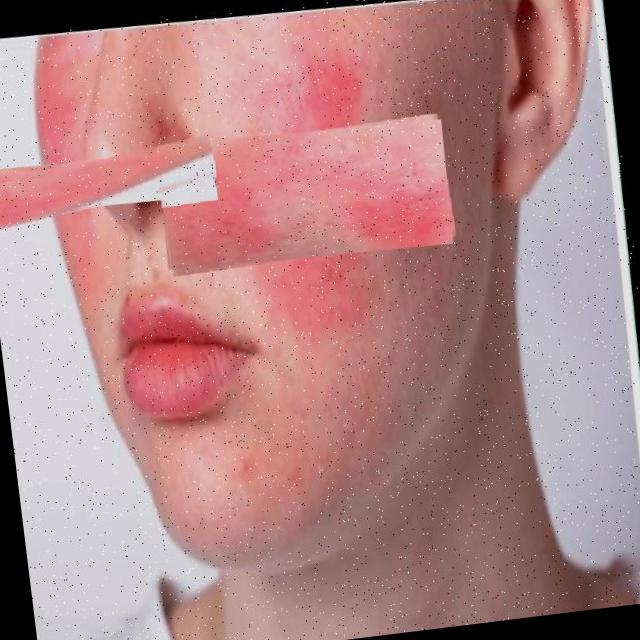redness: (166, 126, 449, 267), (0, 144, 210, 228)
